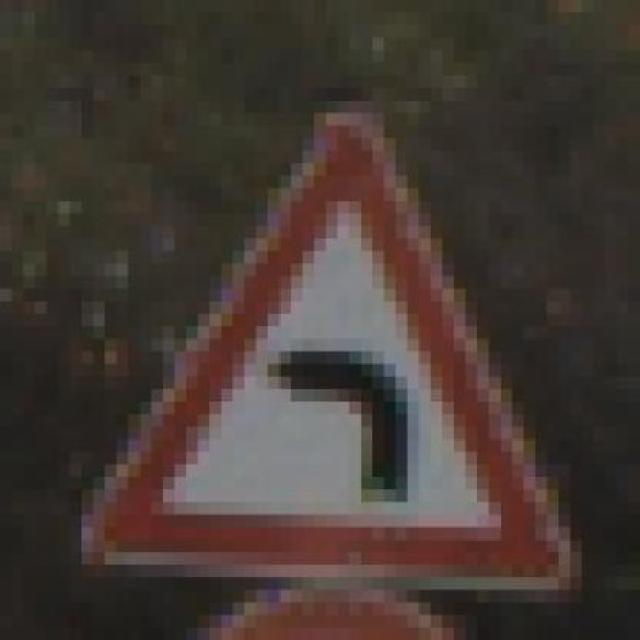Dangerous Left Curve Ahead: (81, 75, 582, 602)
